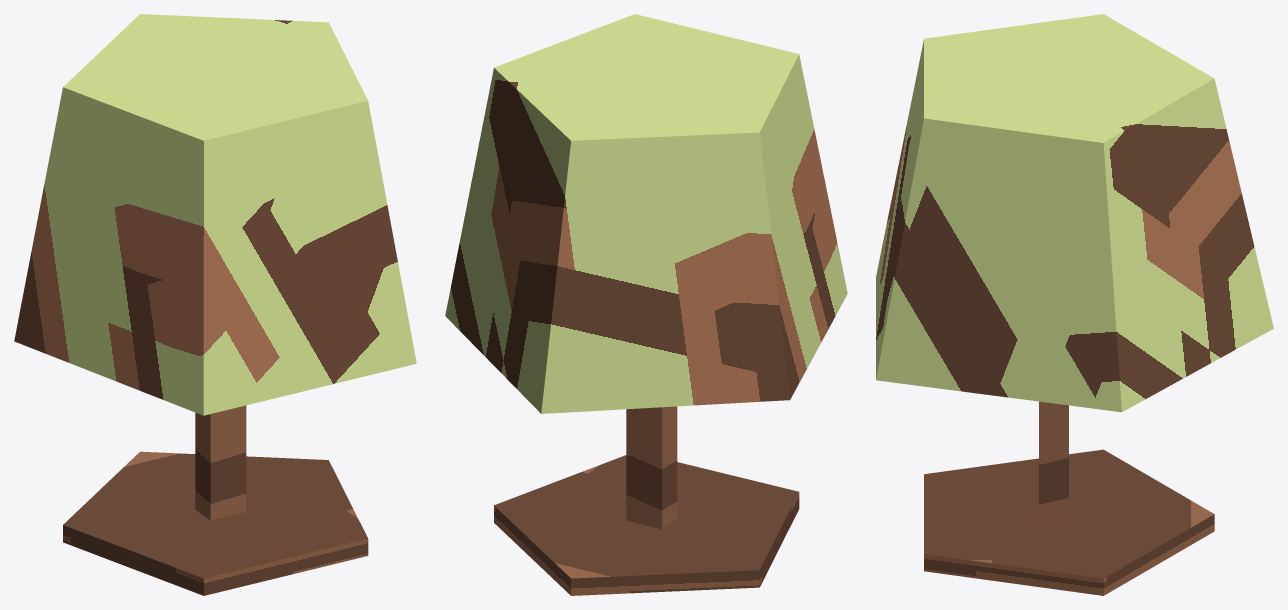
The model's file is Lamp.fbx.
The picture shows the model from 3 angles, left to right: view 1: azimuth 30°, elevation 25°; view 2: azimuth 150°, elevation 25°; view 3: azimuth 270°, elevation 25°; orthographic projection.
Parts seen in each view (by area): view 1: Lamp; view 2: Lamp; view 3: Lamp.
Part boxes in pixels (x1,y1,x2,y2): Lamp: (14, 14, 416, 595); Lamp: (445, 14, 847, 595); Lamp: (876, 14, 1273, 595).
Size of the model in its own units: 2.47 by 3.11 by 2.48.
